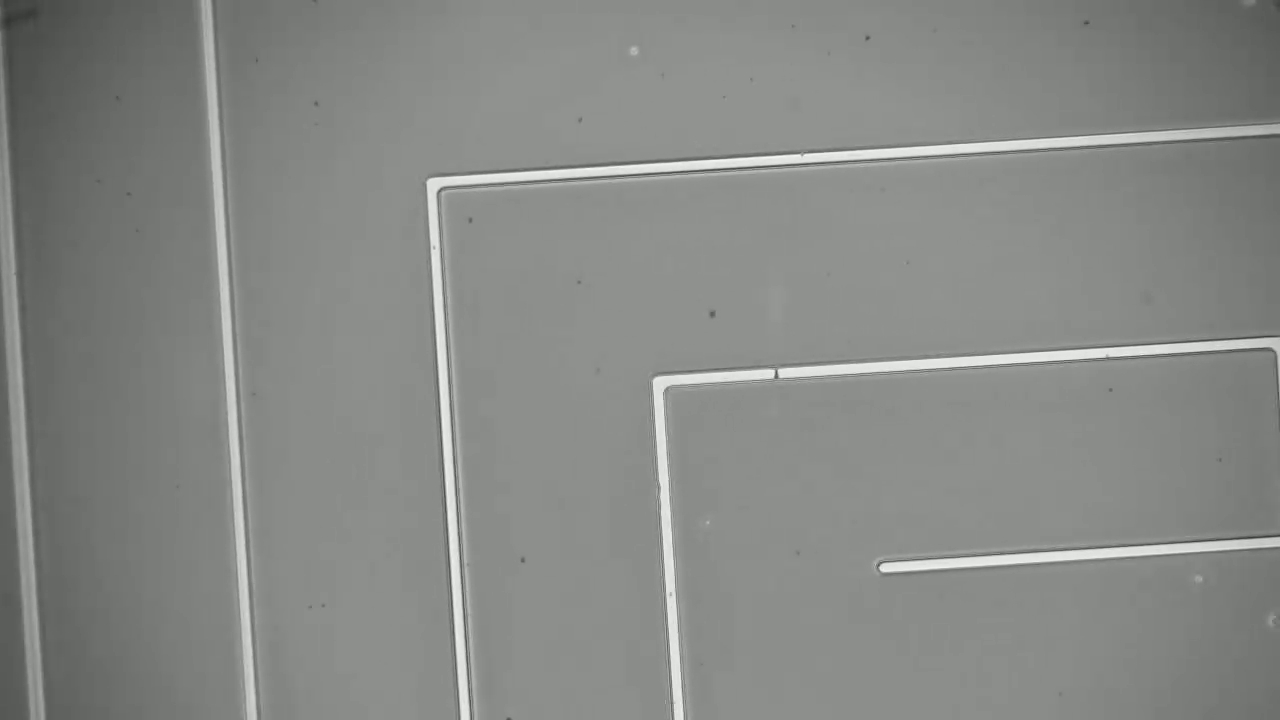stains_enbedded: (770, 362, 786, 382)
